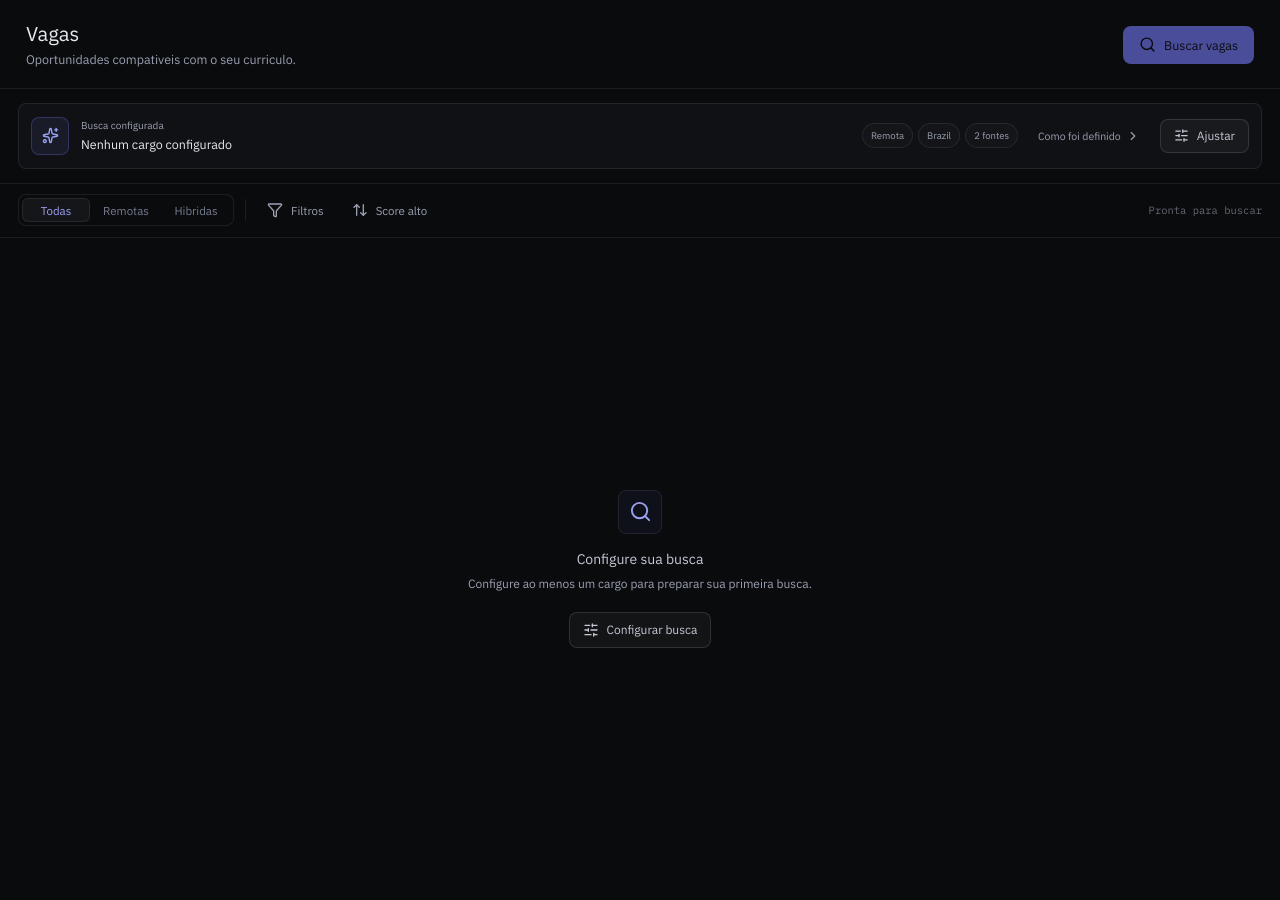
SearchView effective search plan › renders the first-run plan when empty Go slices arrive as null
Check: the text "Nenhum cargo configurado" is shown, box [81,136,232,152]
Step 1. Click the button "Como foi definido" → point(1089, 136), box [1030,118,1148,152]
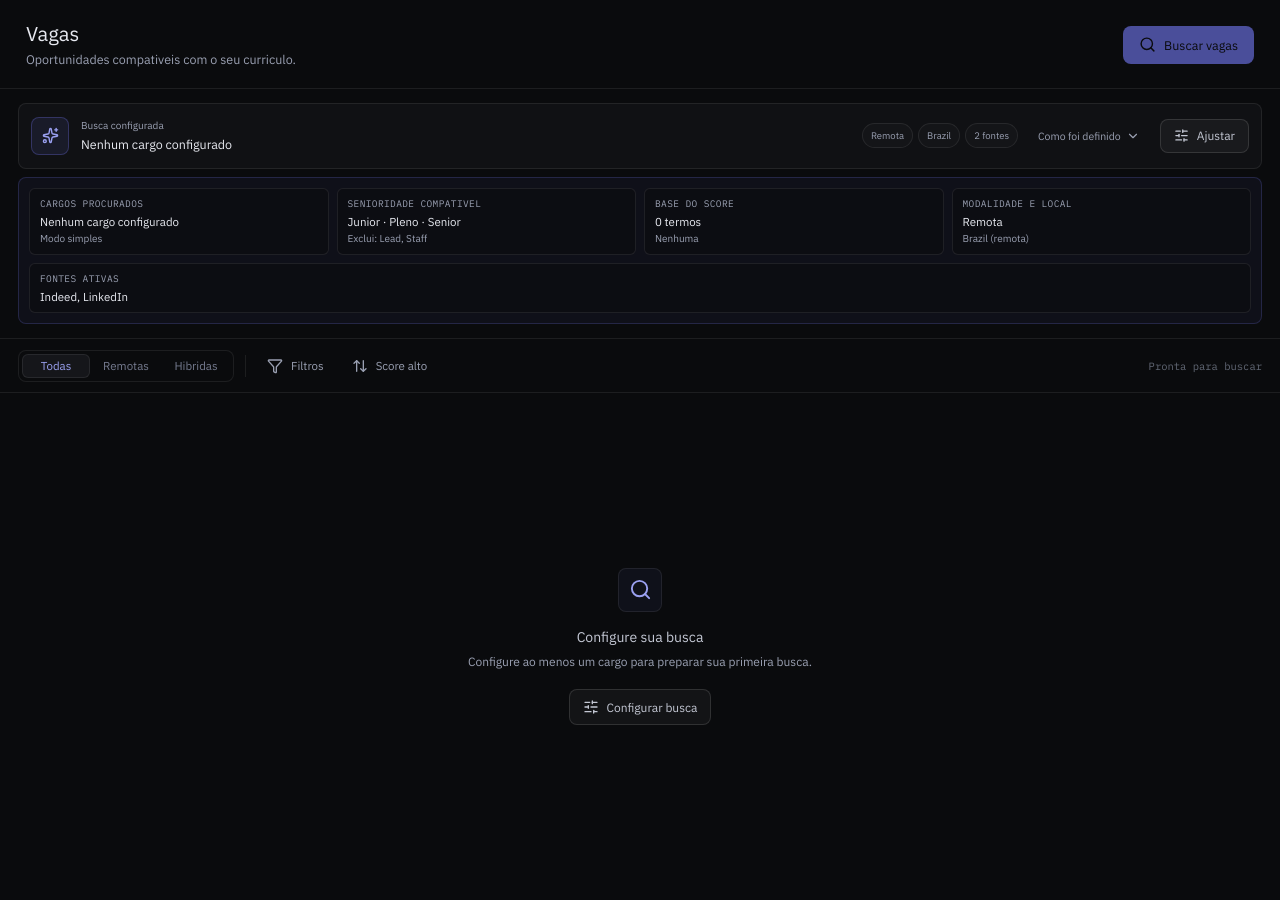
Check: the text "Nenhuma" is shown, box [655,232,699,245]
Check: the text "Brazil (remota)" is shown, box [962,232,1029,245]
